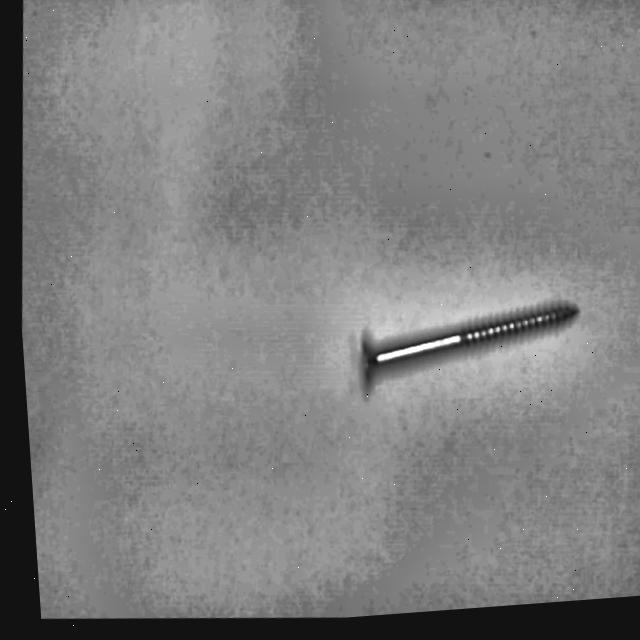Wood screw: (347, 282, 584, 417)
